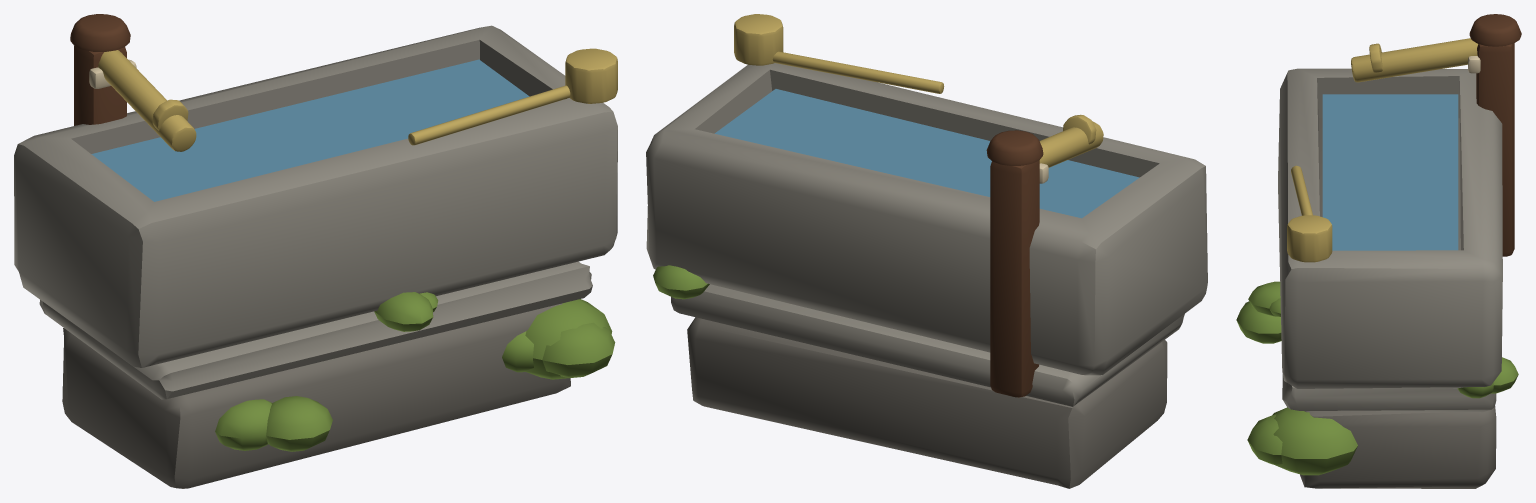
File: water_basin.glb
The picture shows the model from 3 angles, left to right: view 1: azimuth 30°, elevation 25°; view 2: azimuth 150°, elevation 25°; view 3: azimuth 270°, elevation 25°; orthographic projection. The views are drawn at different scales.
Parts seen in each view (by area): view 1: water_basin, water_surface, ladle; view 2: water_basin, water_surface, ladle; view 3: water_basin, water_surface, ladle.
Boxes of the visible parts, x1,y1,x2,y2 form: water_basin: [14, 14, 617, 488]; water_surface: [91, 59, 529, 201]; ladle: [408, 48, 617, 145]; water_basin: [646, 63, 1207, 488]; water_surface: [715, 89, 1139, 218]; ladle: [734, 14, 944, 93]; water_basin: [1236, 14, 1521, 488]; water_surface: [1322, 94, 1458, 250]; ladle: [1287, 165, 1332, 262].
Size of what is drawn, in the model's own units: 1.16 by 0.8432 by 0.6729.
